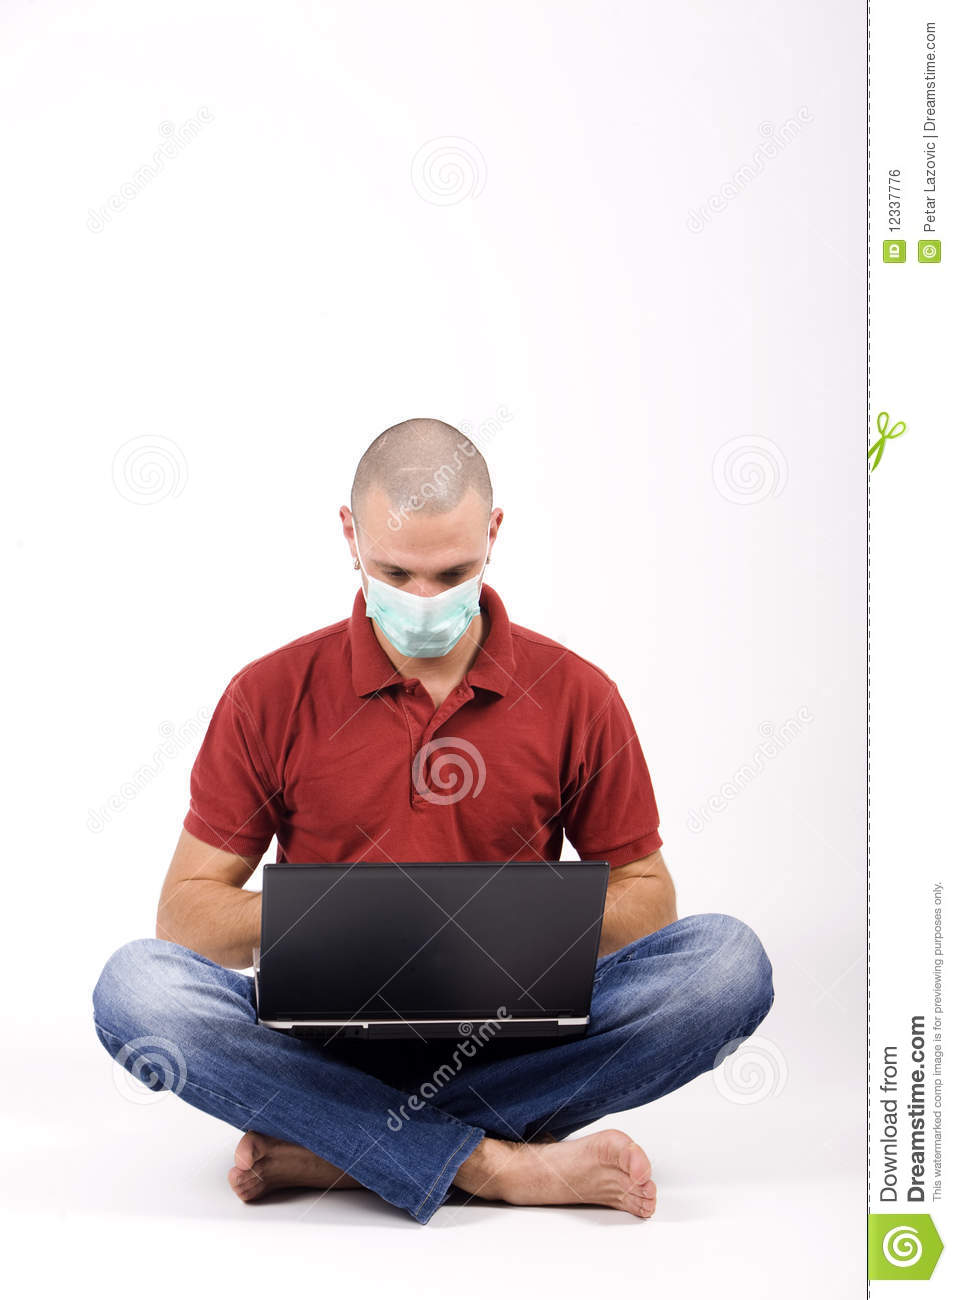mask: (368, 574, 480, 661)
